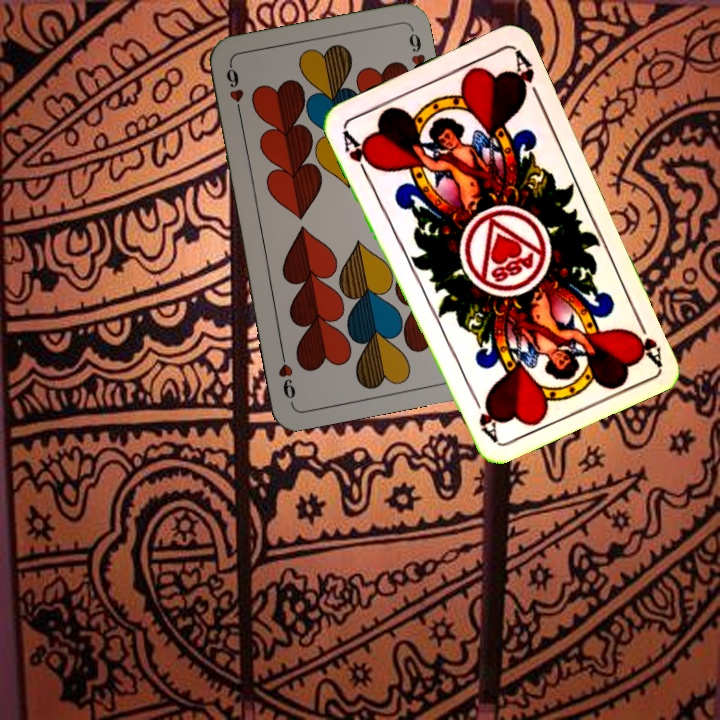H9: (222, 61, 246, 120)
HA: (338, 124, 379, 179), (626, 310, 665, 367)
